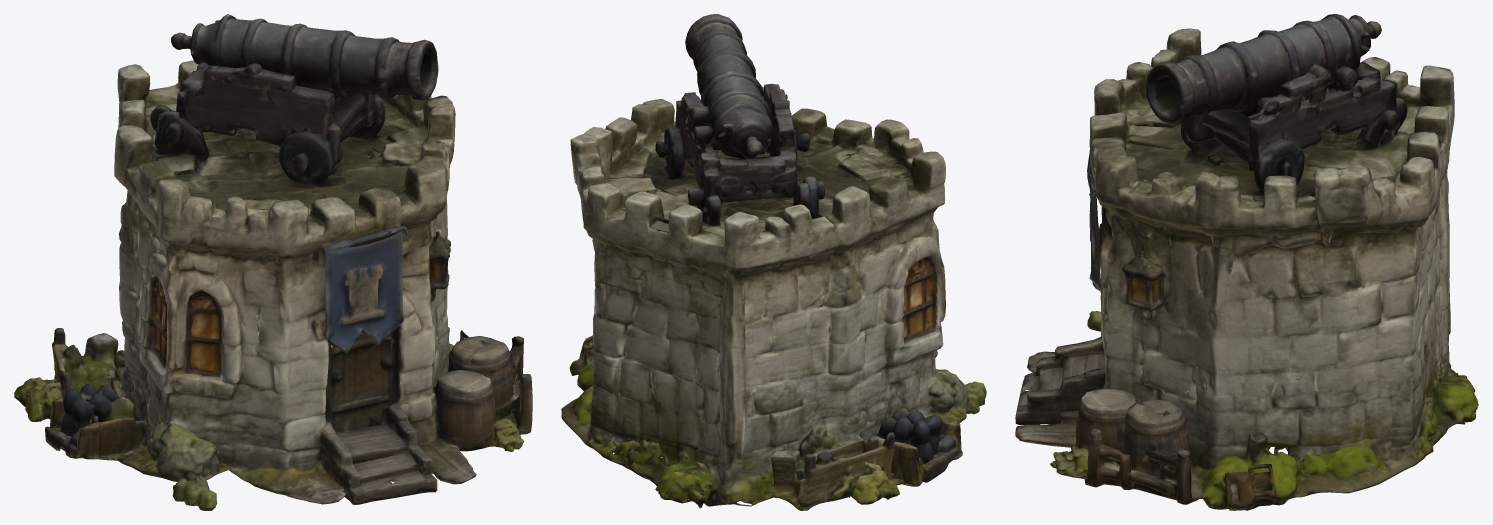
File: bombarding_tower.glb
The picture shows the model from 3 angles, left to right: view 1: azimuth 30°, elevation 25°; view 2: azimuth 150°, elevation 25°; view 3: azimuth 270°, elevation 25°; orthographic projection. The views are drawn at different scales.
Parts seen in each view (by area): view 1: bombarding_tower_s7_fit; view 2: bombarding_tower_s7_fit; view 3: bombarding_tower_s7_fit.
Boxes of the visible parts, x1,y1,x2,y2 form: bombarding_tower_s7_fit: (14, 14, 532, 510); bombarding_tower_s7_fit: (561, 14, 986, 510); bombarding_tower_s7_fit: (1015, 14, 1478, 510).
Size of the model in its own units: 3.83 by 3.51 by 3.58.
1 material, 1 textured.
